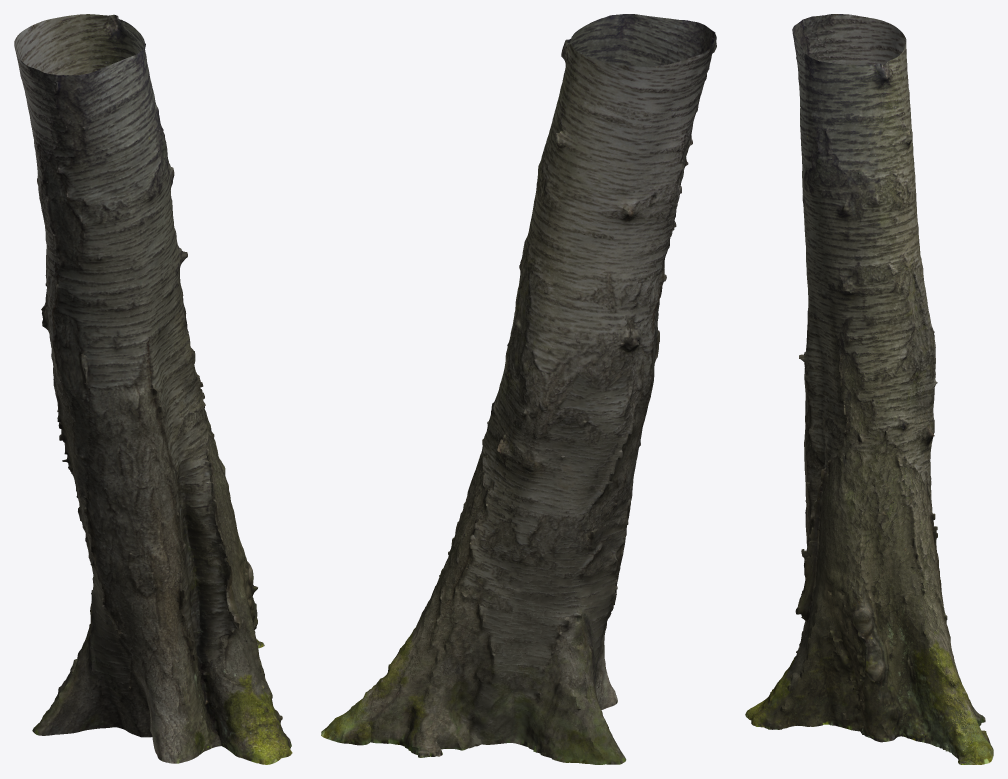
Rendered from wild_cherry_tree_trunk_prunus_avium.glb.
The picture shows the model from 3 angles, left to right: view 1: azimuth 30°, elevation 25°; view 2: azimuth 150°, elevation 25°; view 3: azimuth 270°, elevation 25°; orthographic projection. The views are drawn at different scales.
Visible parts, largest first — view 1: Object_2; view 2: Object_2; view 3: Object_2.
Boxes of the visible parts, box(x1,y1,x2,y2) form: Object_2: box(14, 14, 292, 764); Object_2: box(321, 14, 716, 764); Object_2: box(745, 14, 993, 764).
Bounding box in the file's own units: 10.13 × 22.07 × 8.04.
Materials: 1 (1 with a texture image).
